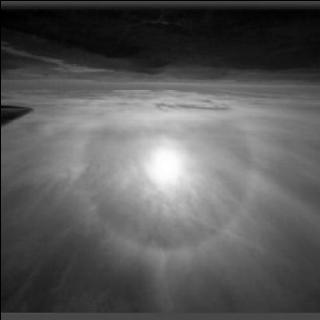Cirrostratus: (0, 61, 320, 286)
